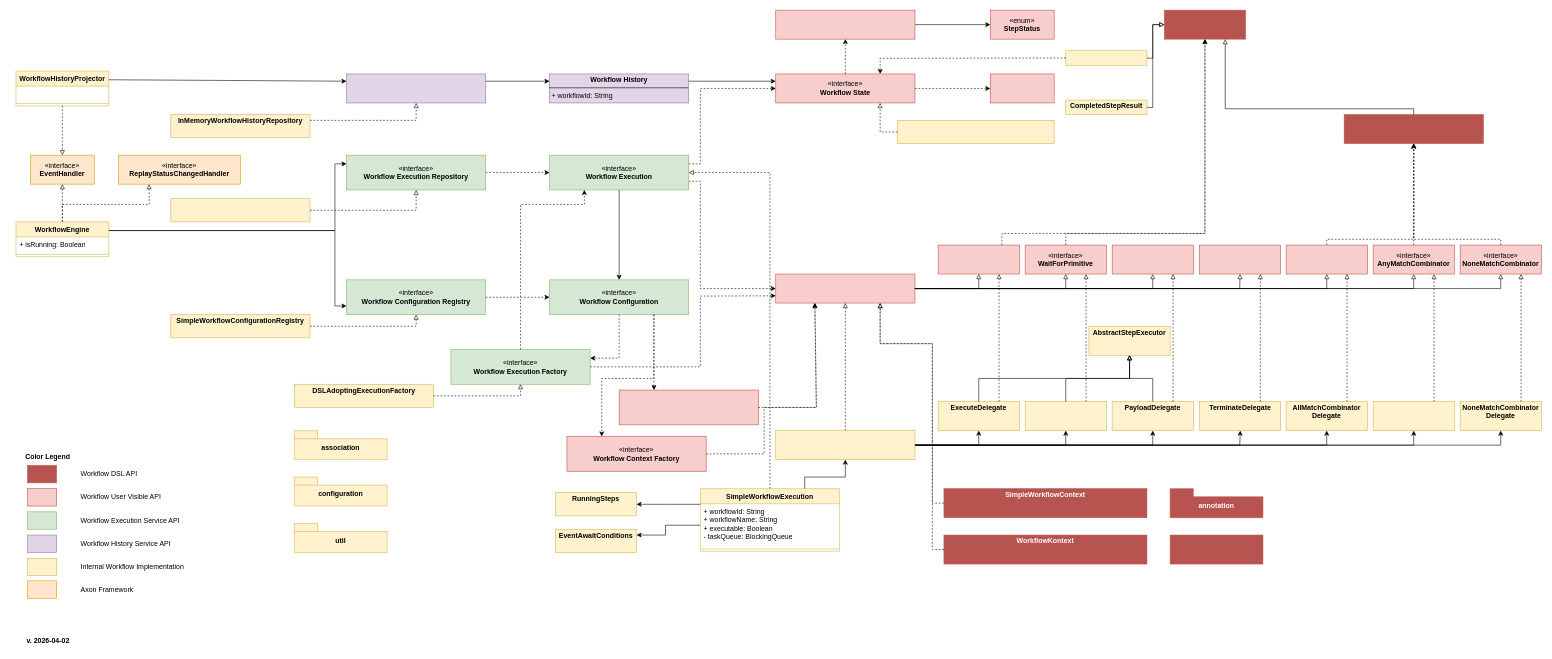
This 1552x659 diagram has some shape labels left out. The centre of each missing label's shape, as x and y in pixels:
"AnyMatchCombinator Delegate" belongs at pixel 1413 416.
"AssociationsUtils" belongs at pixel 1216 549.
"EventSourcedWorkflowState" belongs at pixel 975 132.
"InMemoryWorkflowExecutionRepository" belongs at pixel 240 210.
"StateBasedStepResult" belongs at pixel 1106 57.
"WaitForDelegate" belongs at pixel 1065 416.
"WorkflowContextDelegate" belongs at pixel 845 445.
"WorkflowStep" belongs at pixel 845 24.
"«enum» WorkflowStatus" belongs at pixel 1022 88.
"«interface» AllMatchCombinator" belongs at pixel 1326 259.
"«interface» CombinatorWorkflowStepResult" belongs at pixel 1413 129.
"«interface» ExecutePrimitive" belongs at pixel 978 259.
"«interface» PayloadPrimitive" belongs at pixel 1152 259.
"«interface» TerminatePrimitive" belongs at pixel 1240 259.
"«interface» Workflow Context" belongs at pixel 845 288.
"«interface» Workflow Definition" belongs at pixel 688 407.
"«interface» Workflow History Repository" belongs at pixel 416 88.
"«interface» WorkflowStepResult" belongs at pixel 1205 24.
